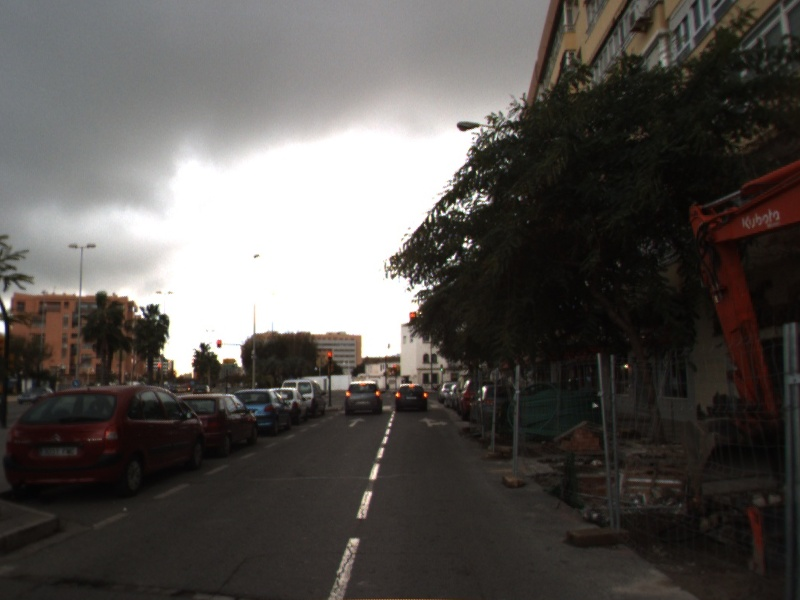STRAIGHT: (347, 416, 367, 428)
STRAIGHT_RIGHT: (417, 415, 450, 429)
